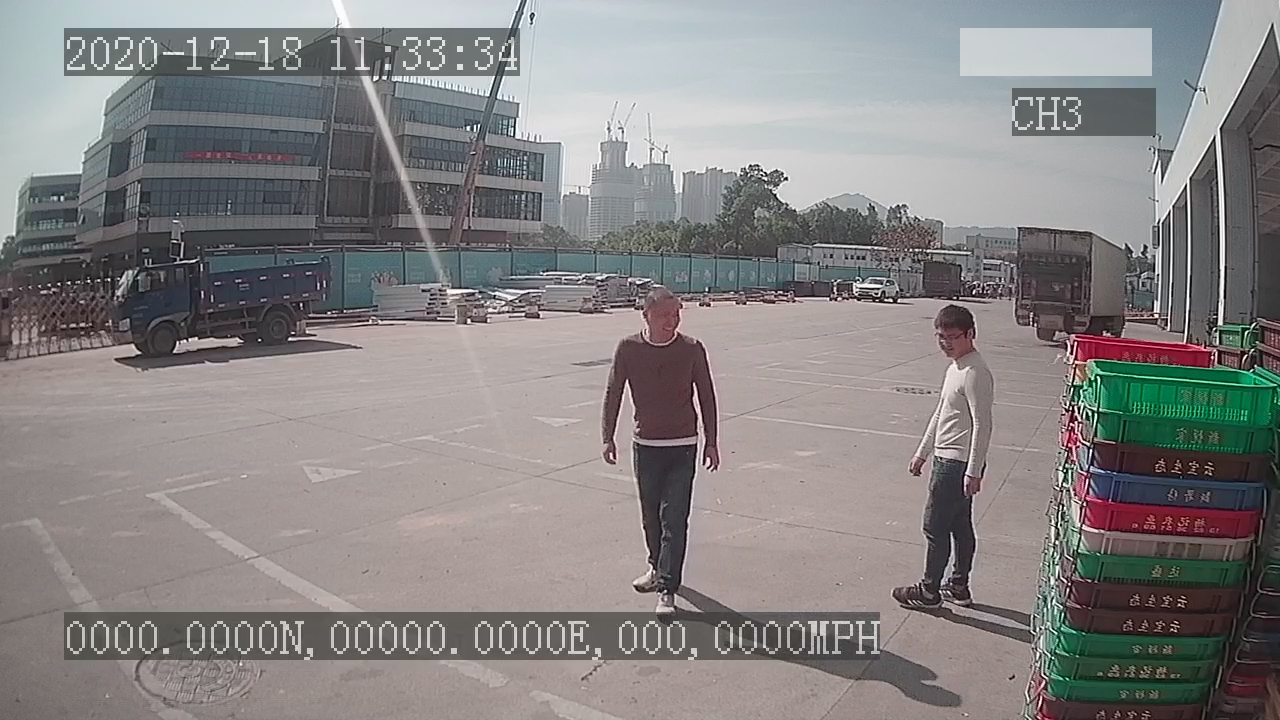person: (600, 286, 718, 613), (889, 300, 996, 615)
